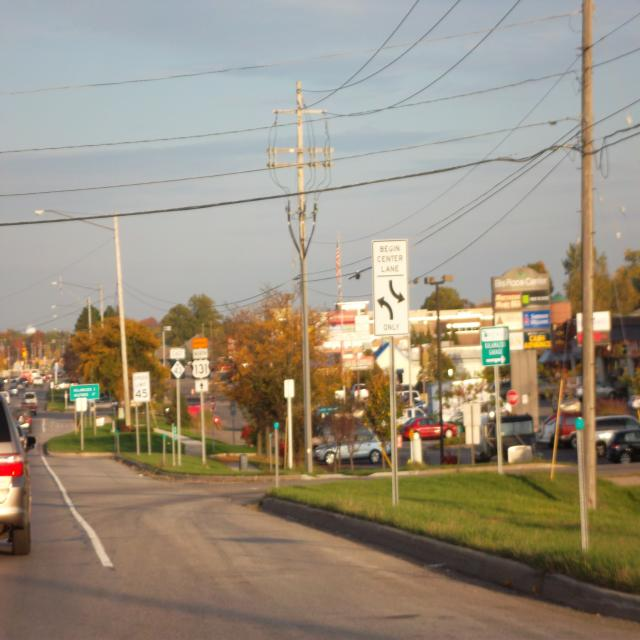regulatory: (372, 240, 411, 336), (129, 367, 151, 405)
